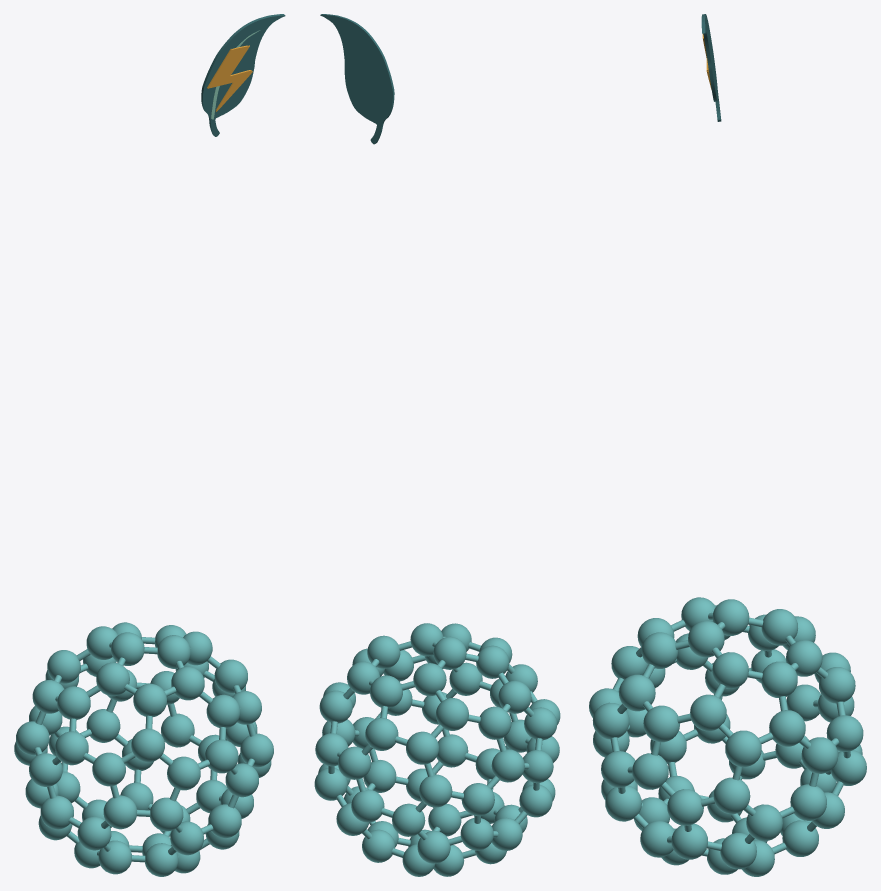
3 renders of one model, left to right at view 1: azimuth 30°, elevation 25°; view 2: azimuth 150°, elevation 25°; view 3: azimuth 270°, elevation 25°, orthographic. The views are drawn at different scales.
Visible parts, largest first — view 1: c60, path182, path186; view 2: c60, path182; view 3: c60, path182.
Part boxes in pixels (<box>): c60: <box>14,622,273,876</box>; path182: <box>201,14,285,136</box>; path186: <box>207,45,252,111</box>; c60: <box>314,623,560,876</box>; path182: <box>320,14,394,144</box>; c60: <box>589,597,866,876</box>; path182: <box>701,14,721,121</box>.
Bounding box in the file's own units: 1.84 × 5.99 × 1.67.
